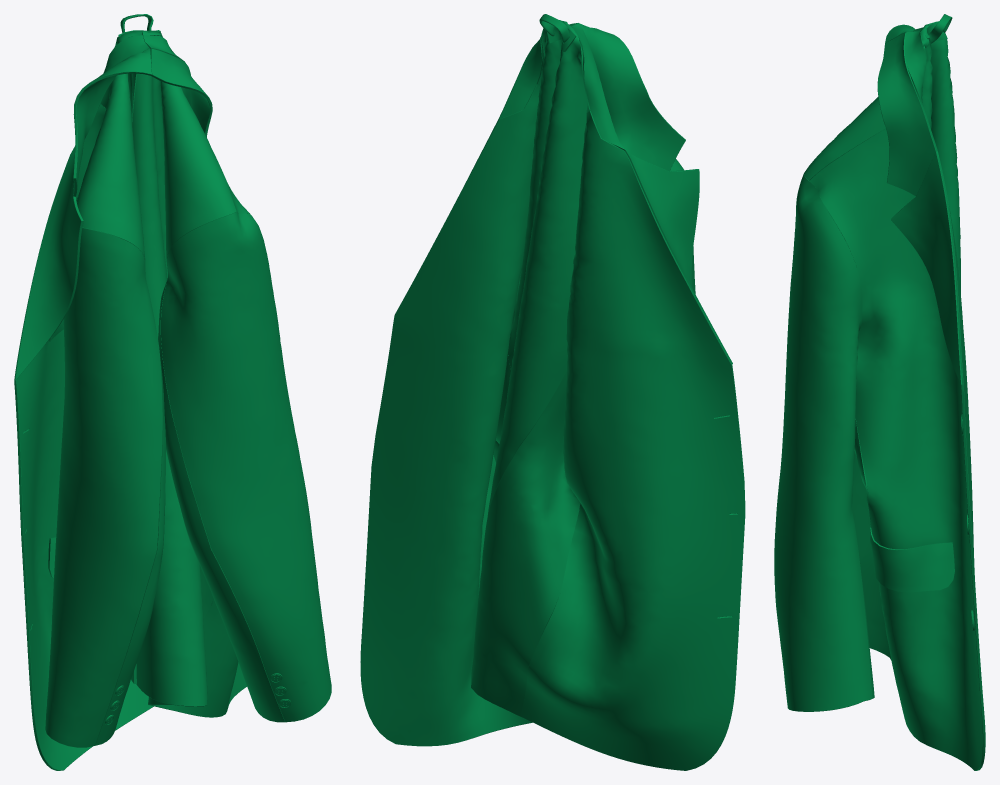
File: jacket04.fbx
3 views of the same model, side by side, from view 1: azimuth 30°, elevation 25°; view 2: azimuth 150°, elevation 25°; view 3: azimuth 270°, elevation 25° (orthographic). The views are drawn at different scales.
Parts seen in each view (by area): view 1: jacket; view 2: jacket; view 3: jacket.
Boxes of the visible parts, bbox=[...] form: jacket: bbox=[14, 14, 331, 770]; jacket: bbox=[360, 14, 745, 770]; jacket: bbox=[774, 14, 985, 770].
Size of the model in its own units: 38.12 by 83.24 by 23.02.
